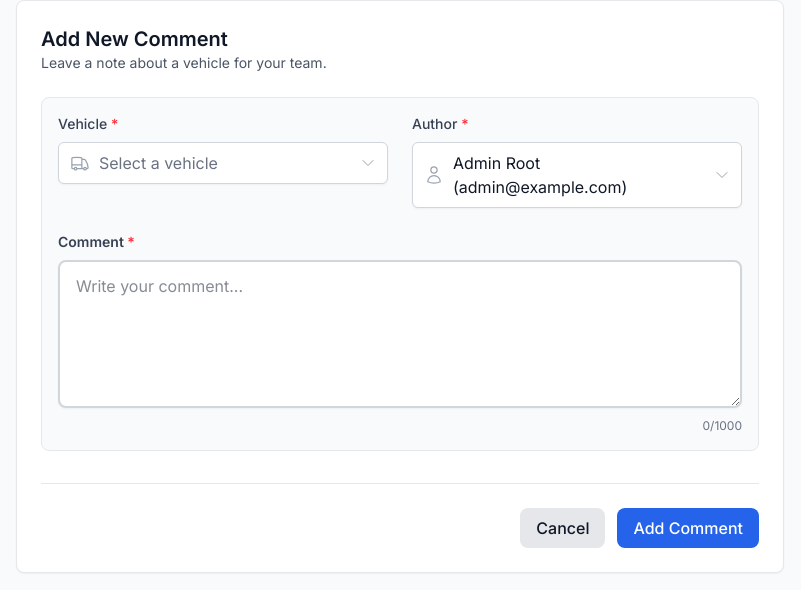
Test: CommentForm › counts characters
In the text box with placeholder "Write your comment...": (400,334) top-left (58, 260), bottom-right (742, 408), type "12345"
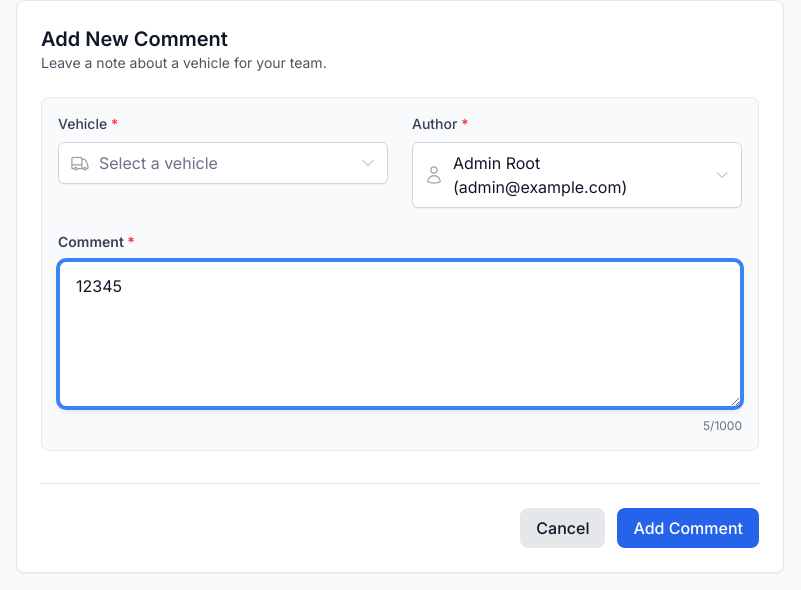
Expected: the text "5/1000" is shown, top-left (703, 418), bottom-right (742, 433)
